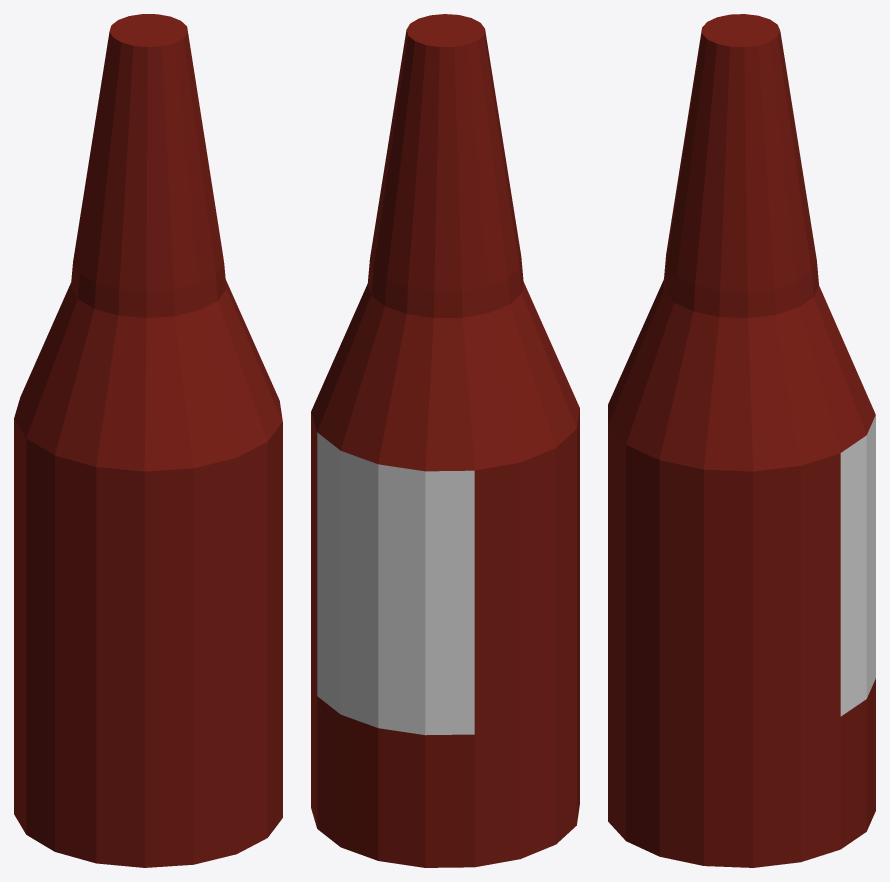
Rendered from Bottle.fbx.
3 renders of one model, left to right at view 1: azimuth 30°, elevation 25°; view 2: azimuth 150°, elevation 25°; view 3: azimuth 270°, elevation 25°, orthographic.
Parts seen in each view (by area): view 1: Bottle; view 2: Bottle; view 3: Bottle.
Boxes of the visible parts, <box> form: Bottle: <box>14,14,282,867</box>; Bottle: <box>311,14,579,867</box>; Bottle: <box>608,14,875,867</box>.
Bounding box in the file's own units: 199 × 638 × 198.
